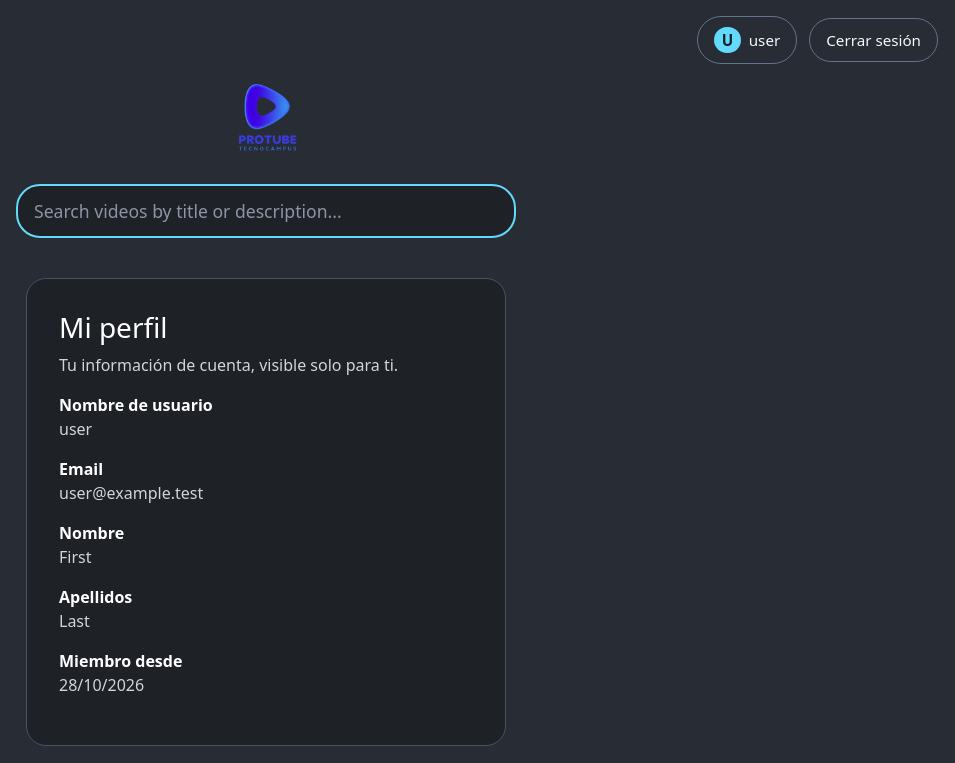
Scenario: Authentication navigation and pages › logs out and clears both profile data and the connected menu
The image size is (955, 763).
Expected: the heading "Mi perfil" is shown, [59,308,168,346]
Step 1. Click the button "Cerrar sesión" → {"x": 874, "y": 40}, box [809,18,938,62]
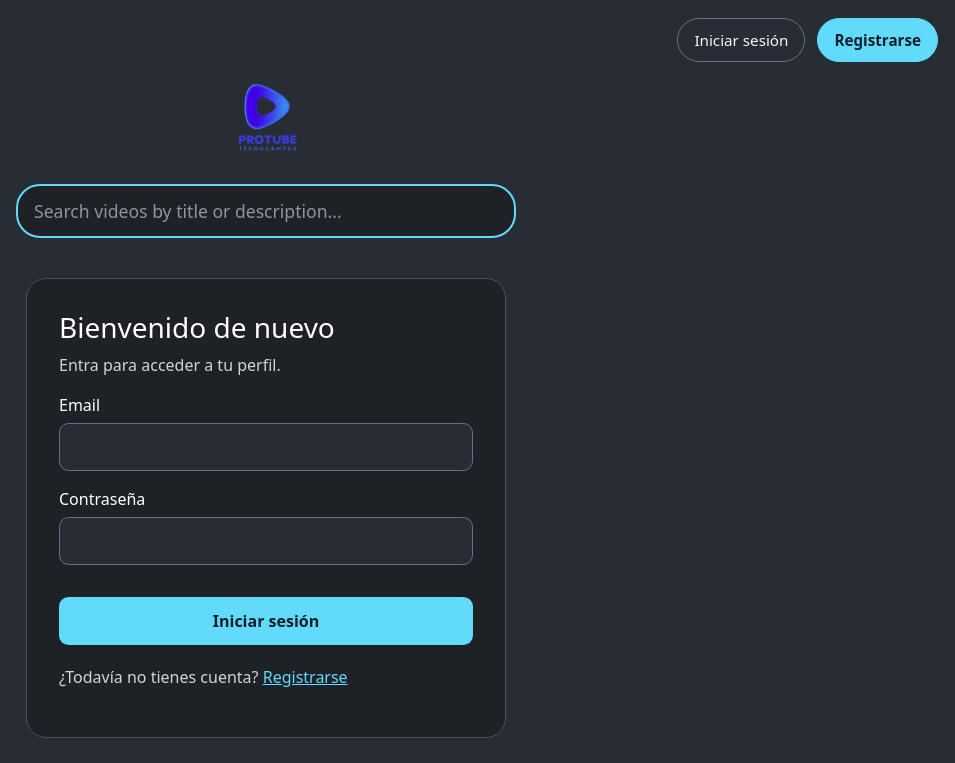
Now the 1st link "Registrarse" is shown, box [817,18,938,62]
Now the text "user@example.test" is gone
